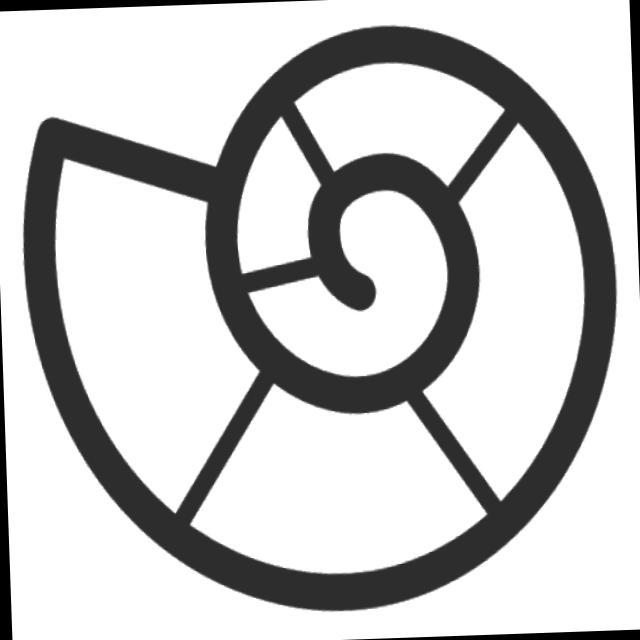fossil: (1, 4, 637, 635)
